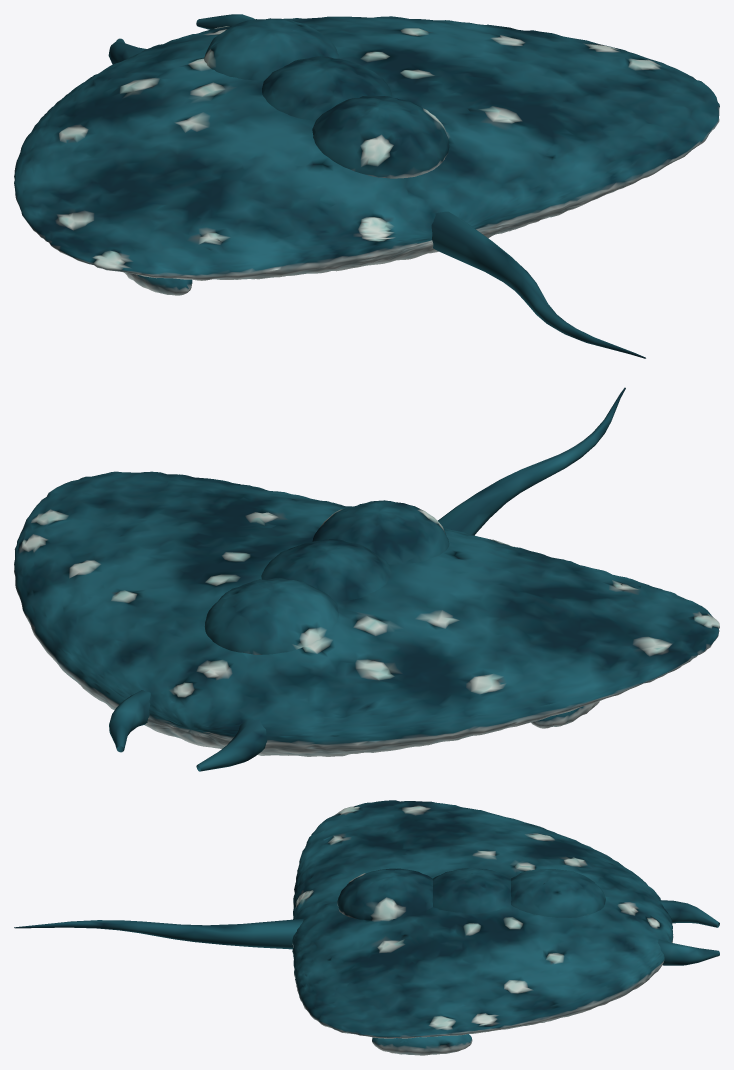
The model's file is drovani_huge.glb.
The picture shows the model from 3 angles, top to bottom: view 1: azimuth 30°, elevation 25°; view 2: azimuth 150°, elevation 25°; view 3: azimuth 270°, elevation 25°; orthographic projection. The views are drawn at different scales.
Visible parts, largest first — view 1: drovani_huge.001; view 2: drovani_huge.001; view 3: drovani_huge.001.
Boxes of the visible parts, <box> form: drovani_huge.001: <box>14,14,719,358</box>; drovani_huge.001: <box>14,387,719,771</box>; drovani_huge.001: <box>14,800,719,1055</box>.
Bounding box in the file's own units: 7.92 × 1.61 × 10.
